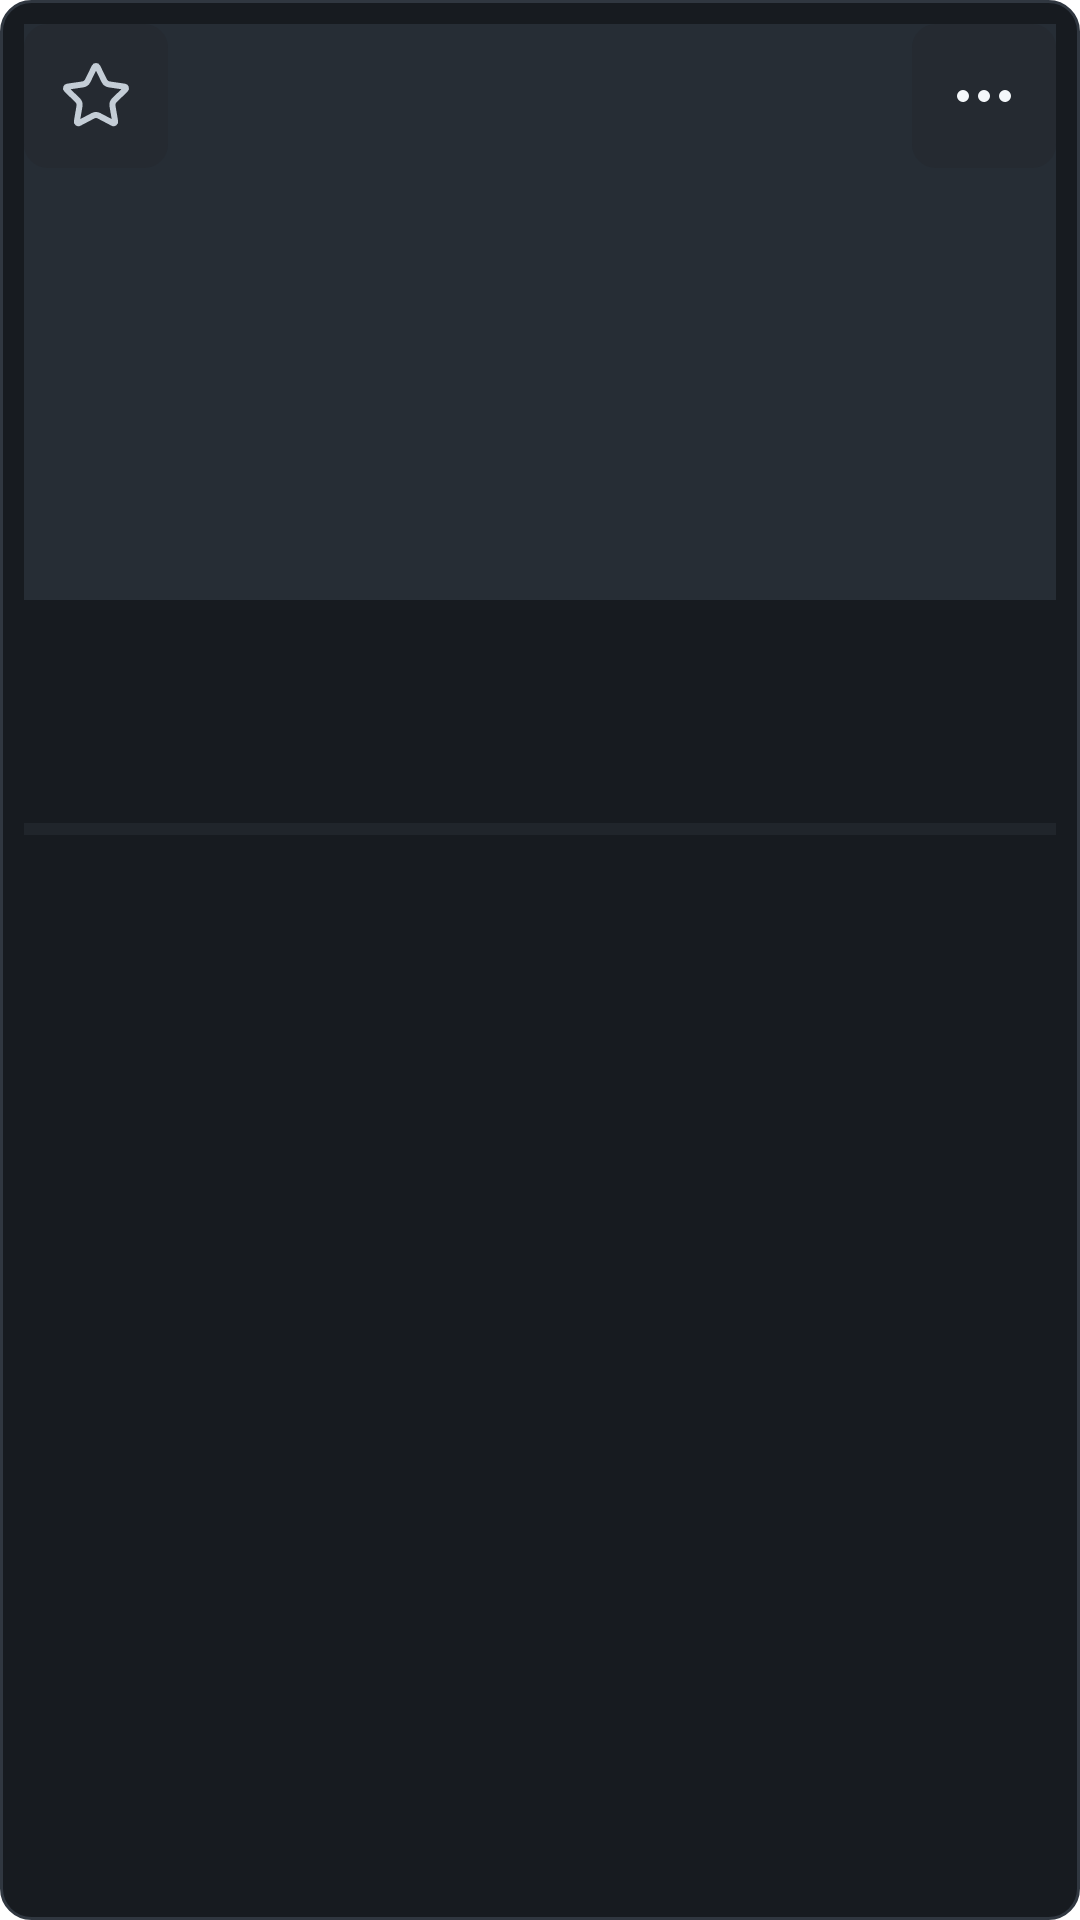

Locate icon controls on the screen. Image size 1080*1920, boxes as (x1, y1, x2, y2).
reader more: (957, 90, 1011, 102)
snippet star: (63, 63, 129, 127)
